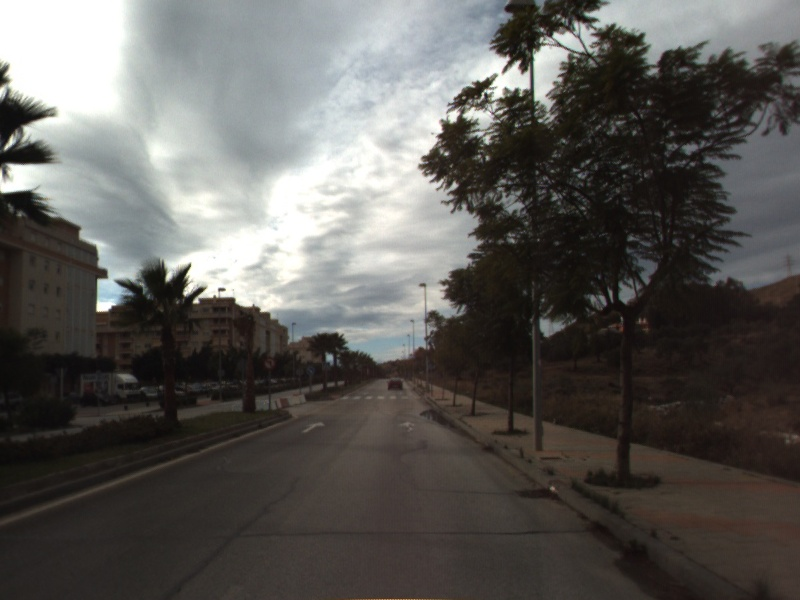STRAIGHT: (299, 419, 327, 435), (396, 419, 419, 434)
